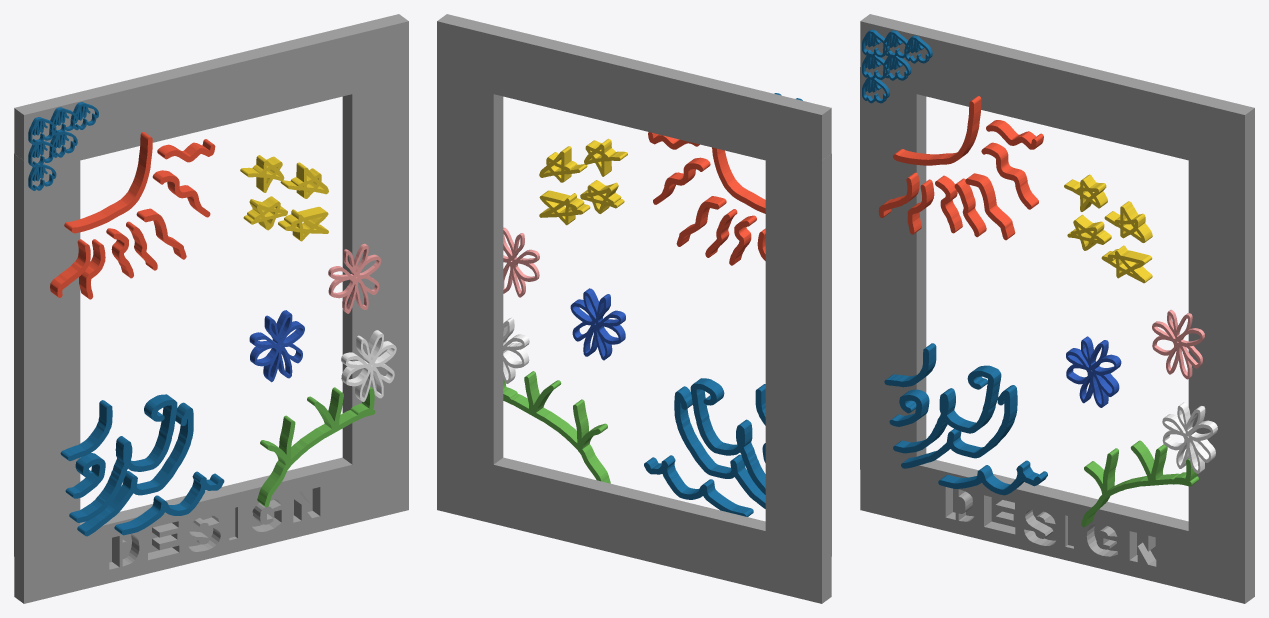
Rendered from frame_D.glb.
3 renders of one model, left to right at view 1: azimuth 30°, elevation 25°; view 2: azimuth 150°, elevation 25°; view 3: azimuth 330°, elevation 25°, orthographic.
Visible parts, largest first — view 1: group_0_14860437, group_0_8768998, group_0_16089887, group_0_16768282, group_0_4634441, group_0_40919, group_0_16448250, group_0_15708628; view 2: group_0_14860437, group_0_8768998, group_0_16089887, group_0_16768282, group_0_4634441, group_0_40919, group_0_15708628, group_0_16448250; view 3: group_0_14860437, group_0_8768998, group_0_16089887, group_0_16768282, group_0_4634441, group_0_40919, group_0_16448250, group_0_15708628.
Part boxes in pixels (left/top/right/bottom): group_0_14860437: left=14, top=14, right=408, bottom=603; group_0_8768998: left=28, top=102, right=224, bottom=536; group_0_16089887: left=50, top=132, right=215, bottom=299; group_0_16768282: left=240, top=155, right=328, bottom=241; group_0_4634441: left=257, top=387, right=375, bottom=507; group_0_40919: left=249, top=310, right=304, bottom=382; group_0_16448250: left=341, top=330, right=396, bottom=401; group_0_15708628: left=328, top=243, right=381, bottom=313; group_0_14860437: left=437, top=14, right=831, bottom=603; group_0_8768998: left=644, top=93, right=802, bottom=516; group_0_16089887: left=648, top=132, right=765, bottom=265; group_0_16768282: left=539, top=138, right=627, bottom=225; group_0_4634441: left=503, top=371, right=610, bottom=483; group_0_40919: left=570, top=288, right=625, bottom=360; group_0_15708628: left=503, top=227, right=539, bottom=297; group_0_16448250: left=503, top=317, right=529, bottom=383; group_0_14860437: left=860, top=14, right=1254, bottom=603; group_0_8768998: left=862, top=29, right=1047, bottom=495; group_0_16089887: left=878, top=96, right=1043, bottom=240; group_0_16768282: left=1064, top=174, right=1152, bottom=283; group_0_4634441: left=1081, top=440, right=1199, bottom=527; group_0_40919: left=1066, top=336, right=1121, bottom=407; group_0_16448250: left=1162, top=402, right=1217, bottom=473; group_0_15708628: left=1152, top=309, right=1204, bottom=379.
Bounding box in the file's own units: 90 × 109 × 9.
